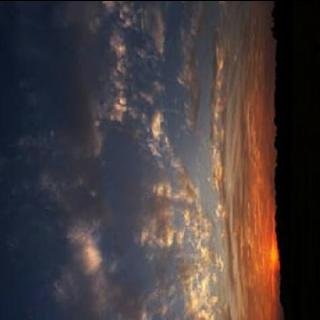Cirrocumulus: (1, 0, 274, 320)
